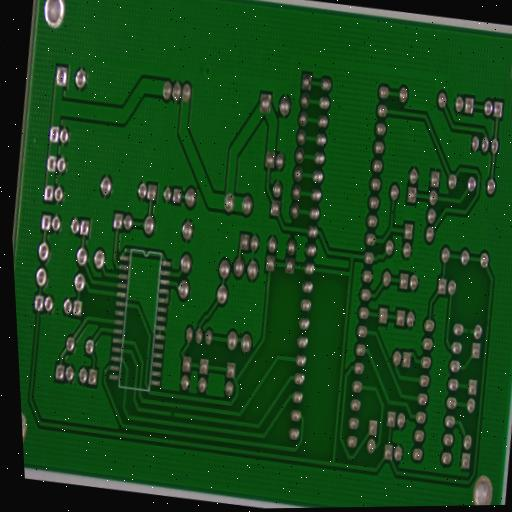open_circuit: (388, 205, 396, 218), (168, 407, 176, 420), (465, 326, 472, 337)
